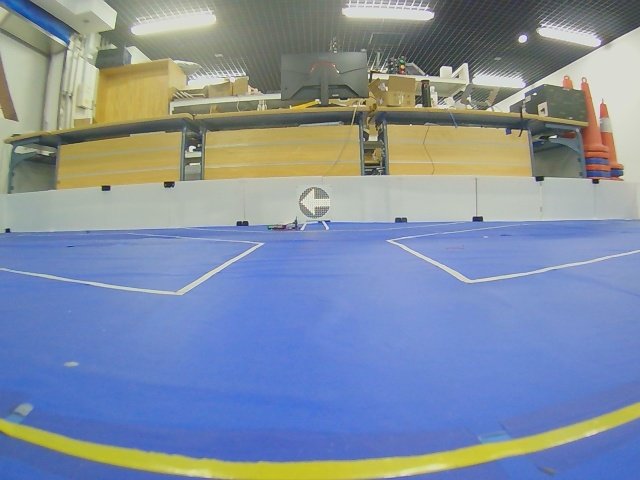left_yellow: (299, 187, 331, 219)
